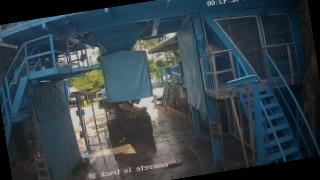cement_mixer_truck: (97, 84, 153, 141)
